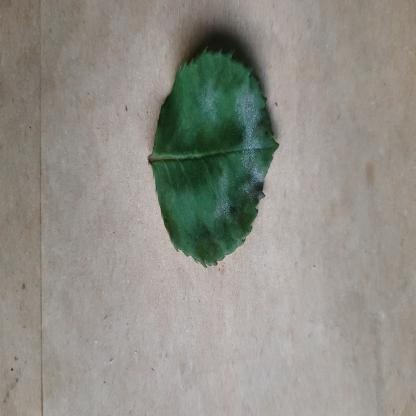powdery-mildew: (148, 44, 282, 271)
